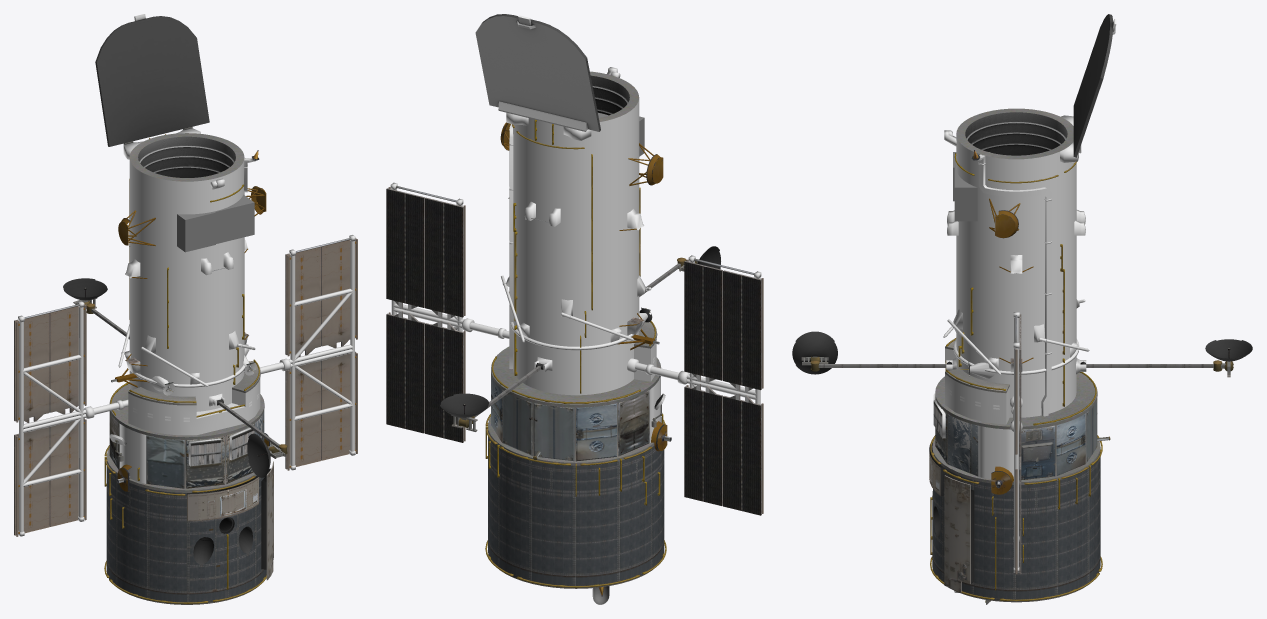
The model's file is hubble.glb.
The picture shows the model from 3 angles, left to right: view 1: azimuth 30°, elevation 25°; view 2: azimuth 150°, elevation 25°; view 3: azimuth 270°, elevation 25°; orthographic projection. The views are drawn at different scales.
Visible parts, largest first — view 1: foil_silver_4, tex_02_8, AO_1_1, shiny_panel_cylinder_6, tex_01_7, Box (×3), AO_light_2; view 2: foil_silver_4, shiny_panel_5, shiny_panel_cylinder_6, tex_02_8, AO_light_2, tex_01_7, AO_1_1; view 3: foil_silver_4, shiny_panel_cylinder_6, tex_02_8, tex_01_7, AO_1_1, Box.
Boxes of the visible parts, x1,y1,x2,y2 form: foil_silver_4: (18, 128, 355, 536); tex_02_8: (15, 133, 357, 580); AO_1_1: (63, 16, 270, 569); shiny_panel_cylinder_6: (106, 462, 266, 604); tex_01_7: (14, 127, 355, 603); Box (×3): (177, 194, 254, 252); AO_light_2: (109, 14, 256, 445); foil_silver_4: (390, 67, 761, 443); shiny_panel_5: (386, 189, 760, 515); shiny_panel_cylinder_6: (488, 431, 664, 588); tex_02_8: (388, 71, 763, 513); AO_light_2: (475, 15, 665, 604); tex_01_7: (386, 119, 761, 596); AO_1_1: (440, 14, 720, 417); foil_silver_4: (933, 115, 1089, 592); shiny_panel_cylinder_6: (932, 454, 1100, 602); tex_02_8: (801, 108, 1230, 604); tex_01_7: (810, 150, 1233, 601); AO_1_1: (792, 14, 1252, 583); Box: (954, 175, 977, 221).
Bounding box in the file's own units: 11.07 × 16.73 × 12.36.
12 materials, 9 textured.
